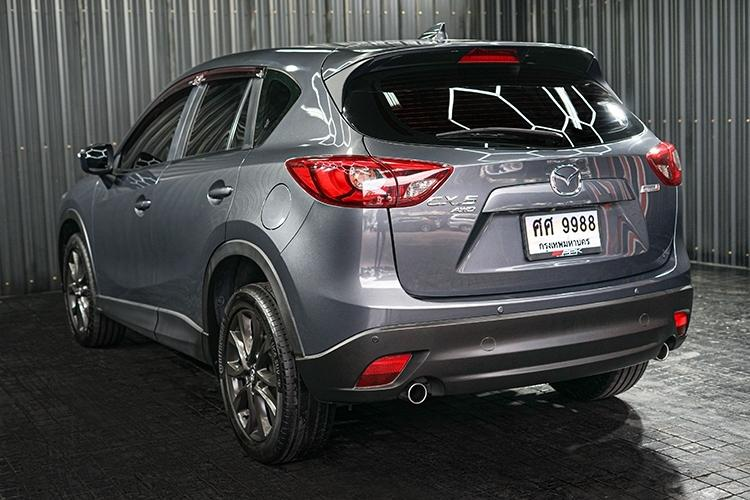license-plate: (521, 207, 604, 260)
